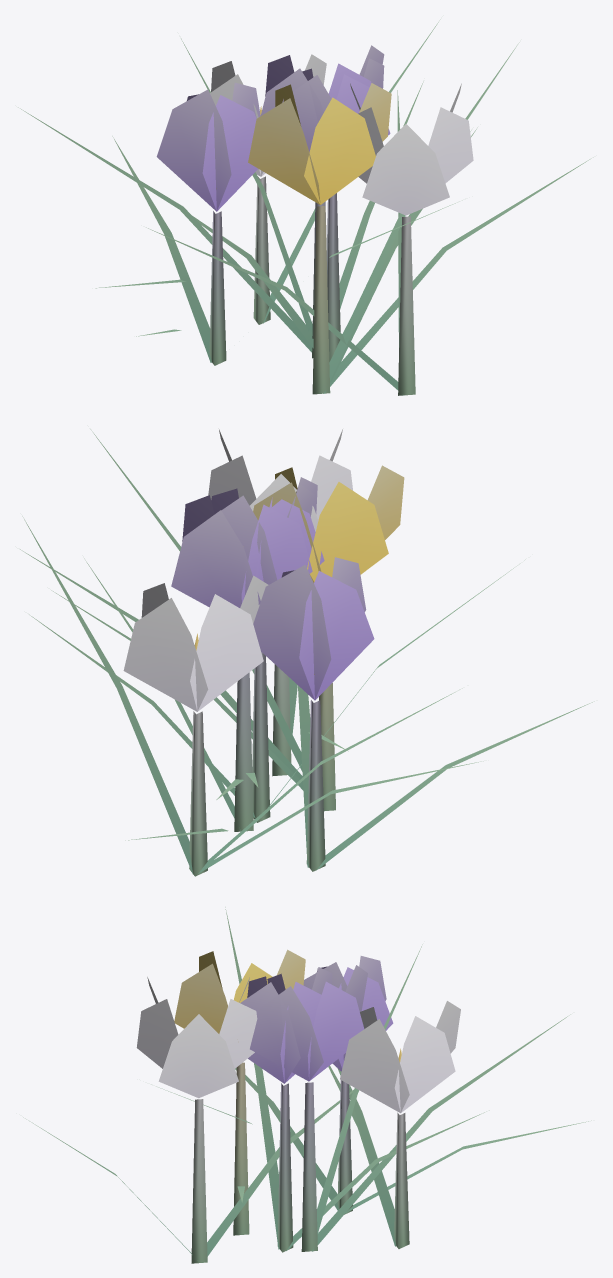
The model's file is crocus_patch_c_mid.glb.
3 views of the same model, one above another, from view 1: azimuth 30°, elevation 25°; view 2: azimuth 150°, elevation 25°; view 3: azimuth 270°, elevation 25° (orthographic). The views are drawn at different scales.
Visible parts, largest first — view 1: soft; view 2: soft; view 3: soft.
Boxes of the visible parts, box(x1,y1,x2,y2) form: soft: box(18, 19, 593, 395); soft: box(20, 429, 594, 876); soft: box(23, 907, 591, 1263).
Bounding box in the file's own units: 0.4641 × 0.2784 × 0.5168.
